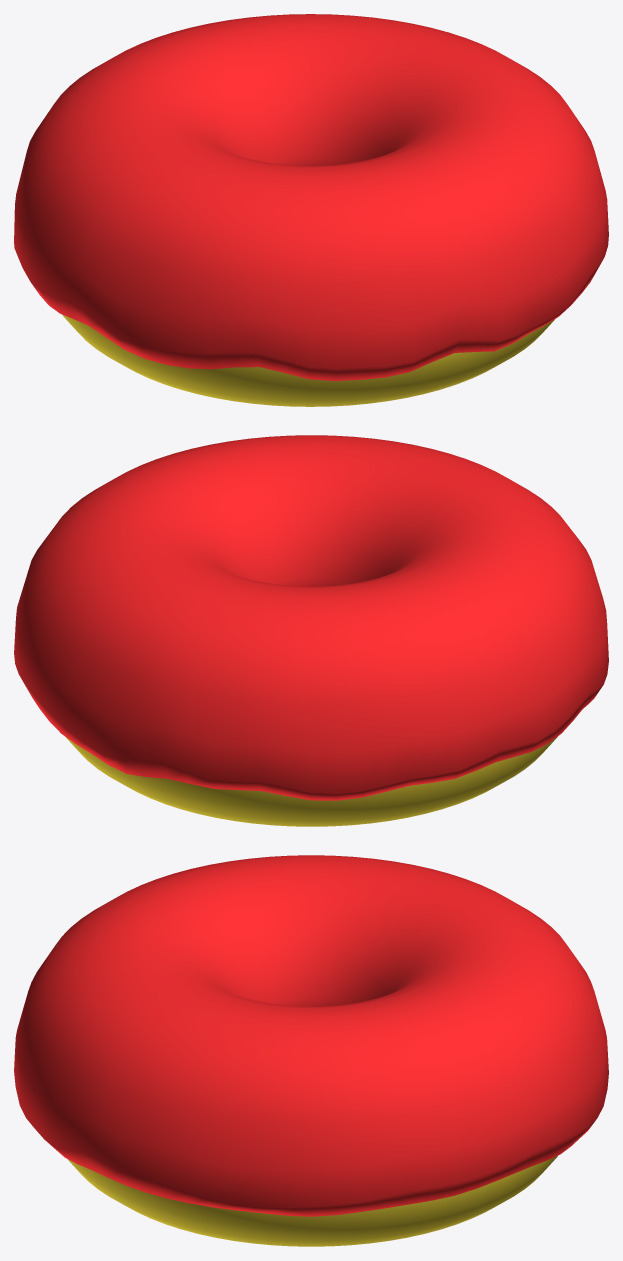
Rendered from doughnut2.glb.
3 renders of one model, top to bottom at view 1: azimuth 30°, elevation 25°; view 2: azimuth 150°, elevation 25°; view 3: azimuth 270°, elevation 25°, orthographic.
Visible parts, largest first — view 1: Torus.001, Torus; view 2: Torus.001, Torus; view 3: Torus.001, Torus.
Part boxes in pixels (x1,y1,x2,y2): Torus.001: [14, 14, 608, 380]; Torus: [62, 314, 554, 406]; Torus.001: [14, 435, 608, 800]; Torus: [65, 736, 557, 826]; Torus.001: [14, 855, 608, 1216]; Torus: [67, 1155, 558, 1246].
Size of the model in its own units: 3.3 by 1.35 by 3.31.
